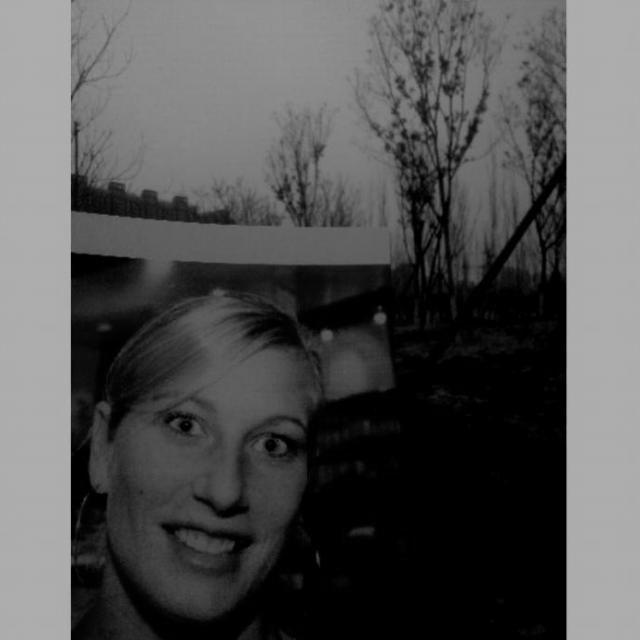fake: (72, 223, 404, 640)
